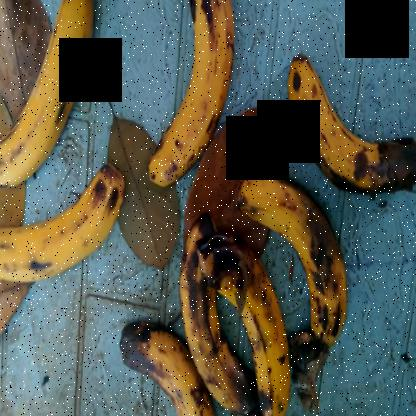overripe: (145, 0, 242, 201)
ripe: (1, 154, 126, 325), (1, 0, 94, 204)
rotten: (288, 22, 415, 203), (241, 153, 354, 352), (199, 218, 295, 415), (105, 304, 227, 415)
